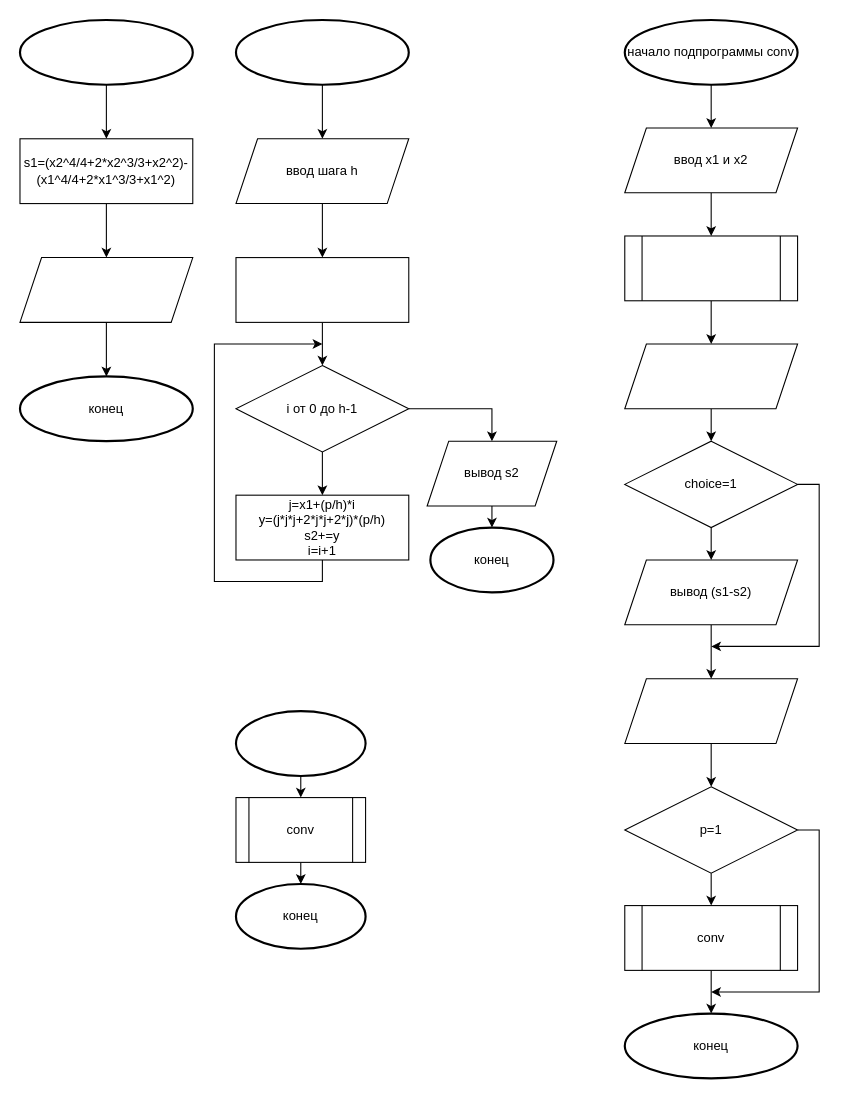
Image size: 847x1097. Some labels were removed from this diagram. Each missing label, with the centre of its shape:
crivolinV1 crivolinV2: the point at 711,268
s2=0 p=x2-x1: the point at 322,289
вывод s1: the point at 106,289
вывод s1 и s2 вам нужна оценка погрешности?(1/0) ввод choice: the point at 711,376
вывод вы хотите использовать программу ещё раз?(1/0) ввод p: the point at 711,711
начало подпрограммы crivolinV1: the point at 105,51
начало подпрограммы crivolinV2: the point at 321,51
начало программы: the point at 300,743
